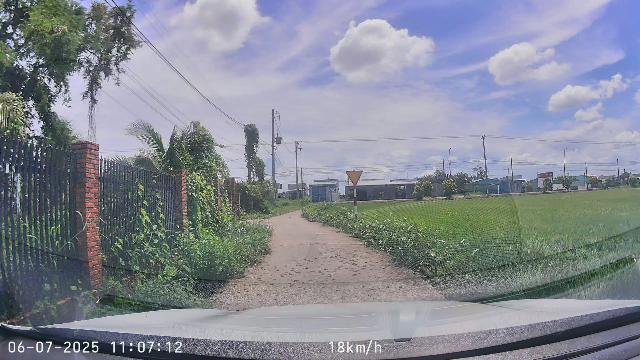208-giao-nhau-voi-duong-uu-tien: (345, 170, 363, 186)
